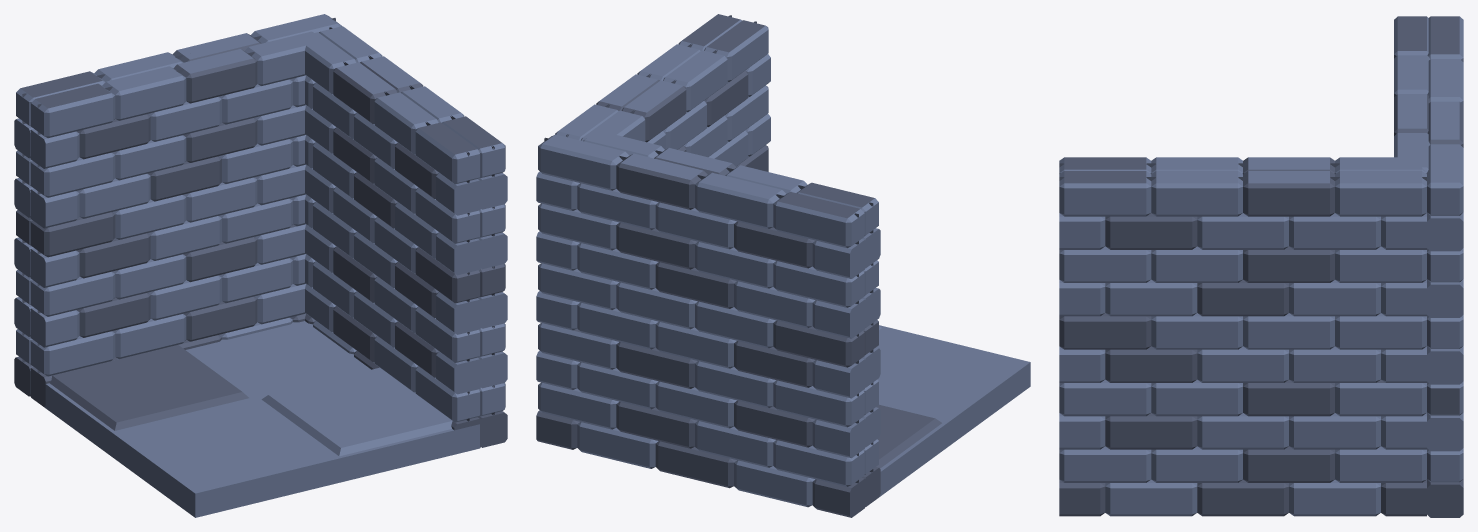
Rendered from corner.fbx.
3 views of the same model, side by side, from view 1: azimuth 30°, elevation 25°; view 2: azimuth 150°, elevation 25°; view 3: azimuth 270°, elevation 25° (orthographic). The views are drawn at different scales.
Parts seen in each view (by area): view 1: brick wall.001; view 2: brick wall.001; view 3: brick wall.001.
Boxes of the visible parts, left/top/right/bottom form: brick wall.001: left=14, top=14, right=507, bottom=517; brick wall.001: left=536, top=14, right=1030, bottom=517; brick wall.001: left=1059, top=16, right=1463, bottom=517.
Bounding box in the file's own units: 110 × 110 × 100.
